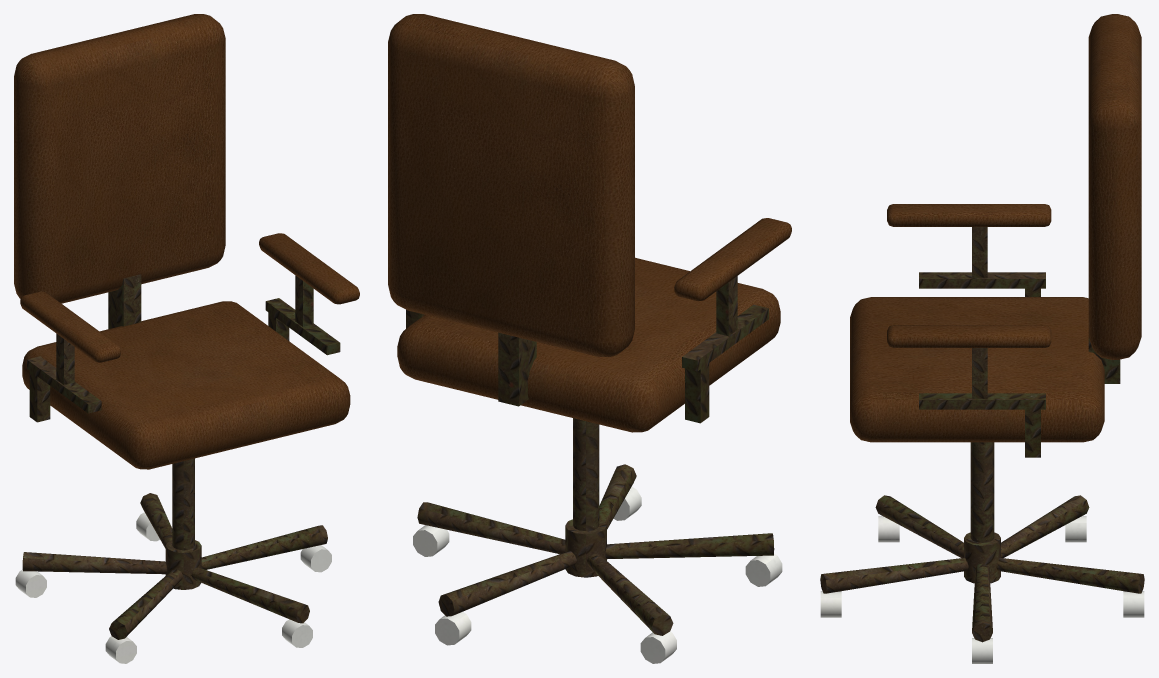
The model's file is office_chair.fbx.
3 views of the same model, side by side, from view 1: azimuth 30°, elevation 25°; view 2: azimuth 150°, elevation 25°; view 3: azimuth 270°, elevation 25° (orthographic). The views are drawn at different scales.
Visible parts, largest first — view 1: office_chair; view 2: office_chair; view 3: office_chair.
Part boxes in pixels (bbox=[...]): office_chair: bbox=[14, 14, 359, 663]; office_chair: bbox=[388, 14, 791, 663]; office_chair: bbox=[820, 14, 1144, 663].
Size of what is drawn, in the model's own units: 62.38 by 112 by 61.15.
Materials: 3 (3 with a texture image).
